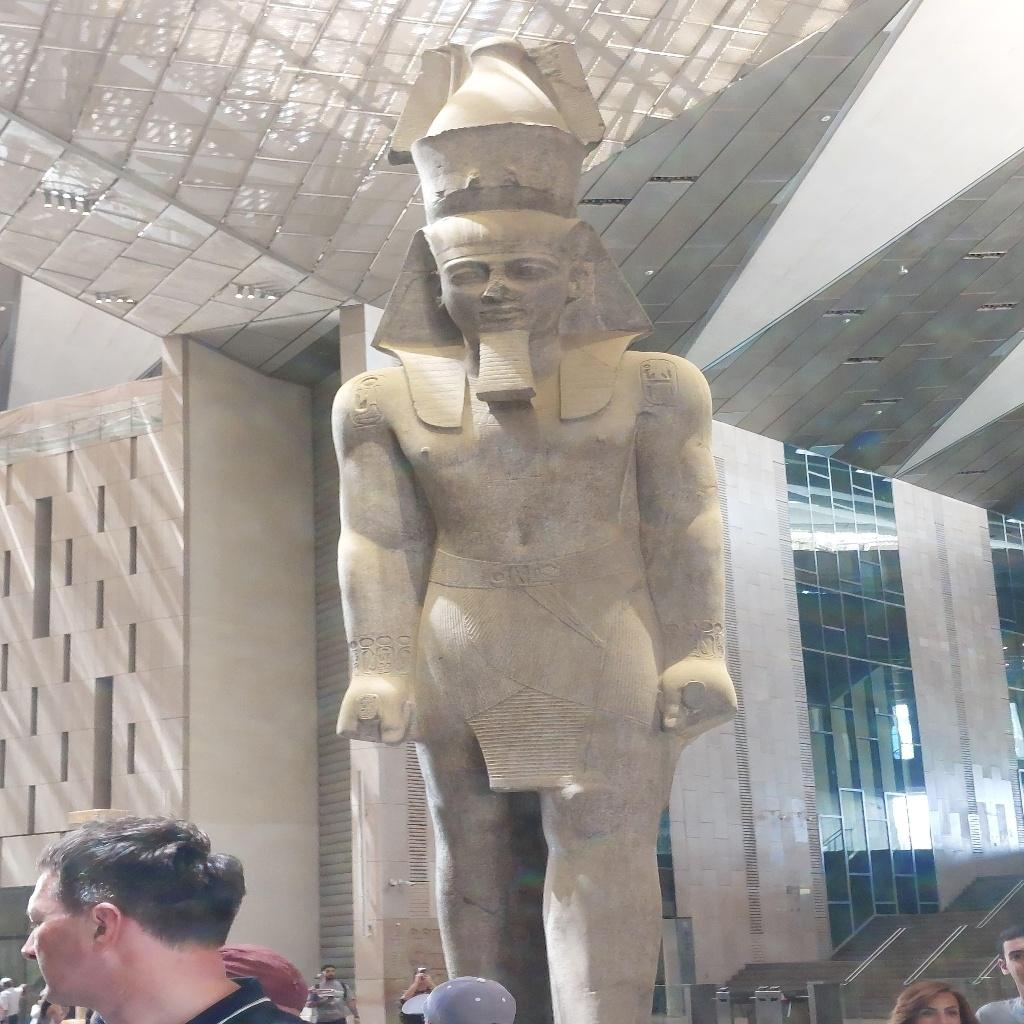Statue of King Ramses II Grand Egyptian Museum: (324, 34, 742, 1022)
